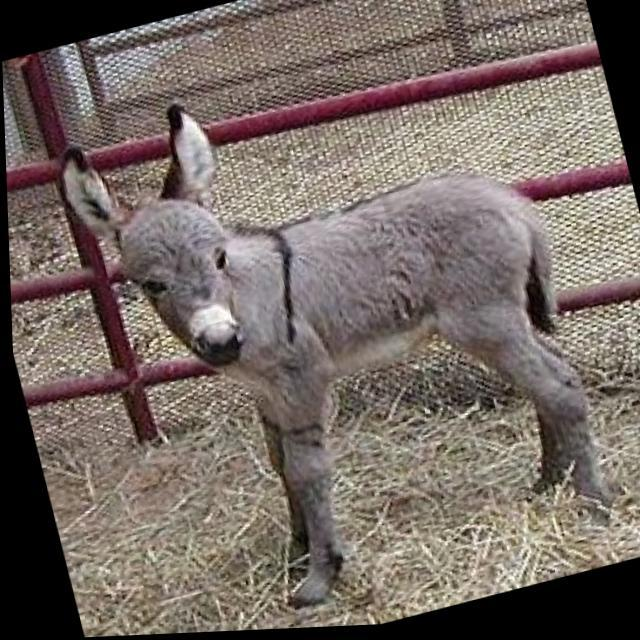Donkey: (48, 21, 628, 638)
